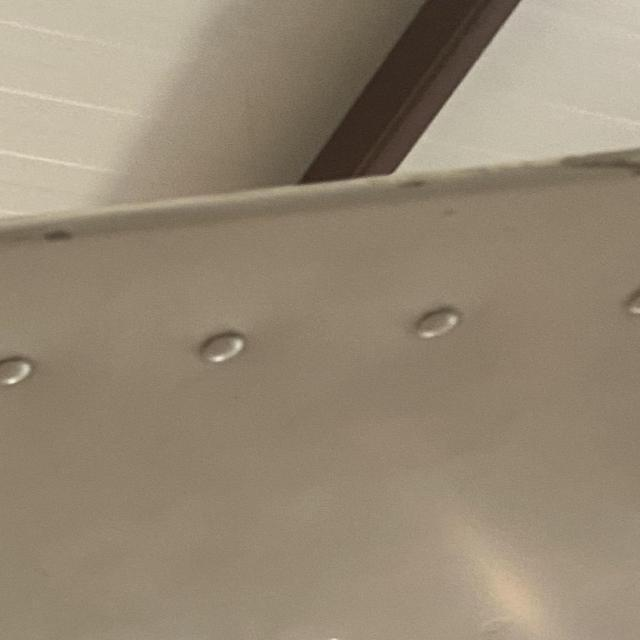Paint-off: (537, 142, 640, 181), (41, 226, 74, 240)
